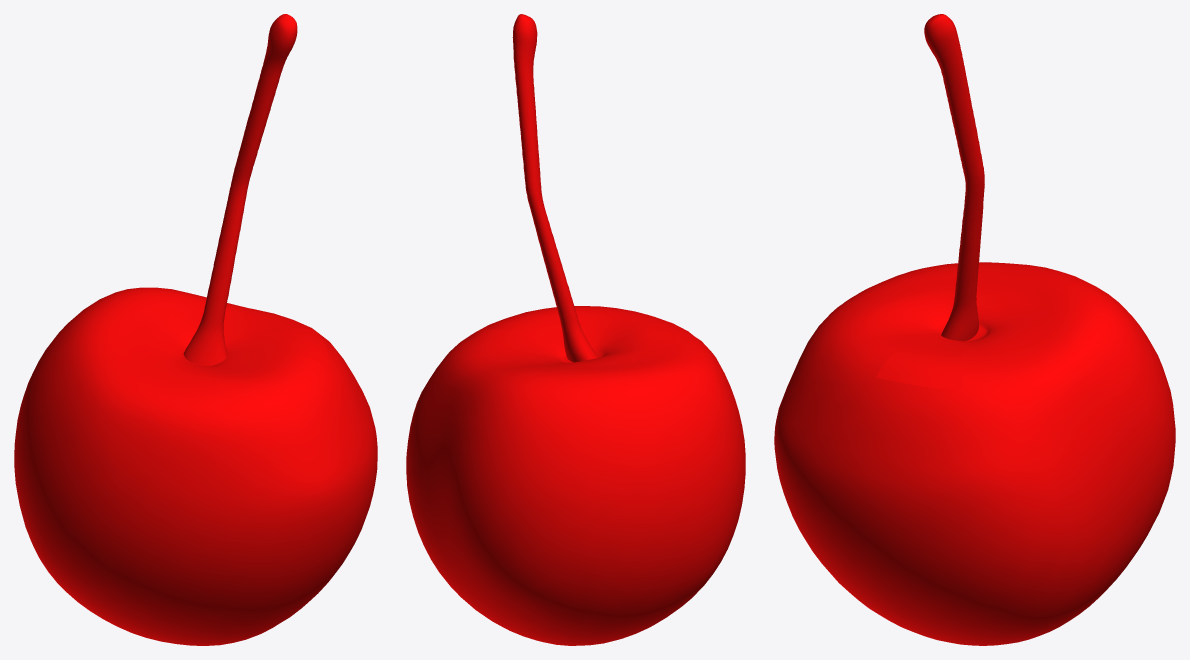
Rendered from cherry-draco.glb.
The picture shows the model from 3 angles, left to right: view 1: azimuth 30°, elevation 25°; view 2: azimuth 150°, elevation 25°; view 3: azimuth 270°, elevation 25°; orthographic projection. The views are drawn at different scales.
Parts seen in each view (by area): view 1: cherry.001; view 2: cherry.001; view 3: cherry.001.
Boxes of the visible parts, <box> form: cherry.001: <box>14,14,377,645</box>; cherry.001: <box>406,14,745,645</box>; cherry.001: <box>774,14,1175,645</box>.
Bounding box in the file's own units: 2.74 × 5.05 × 2.81.
